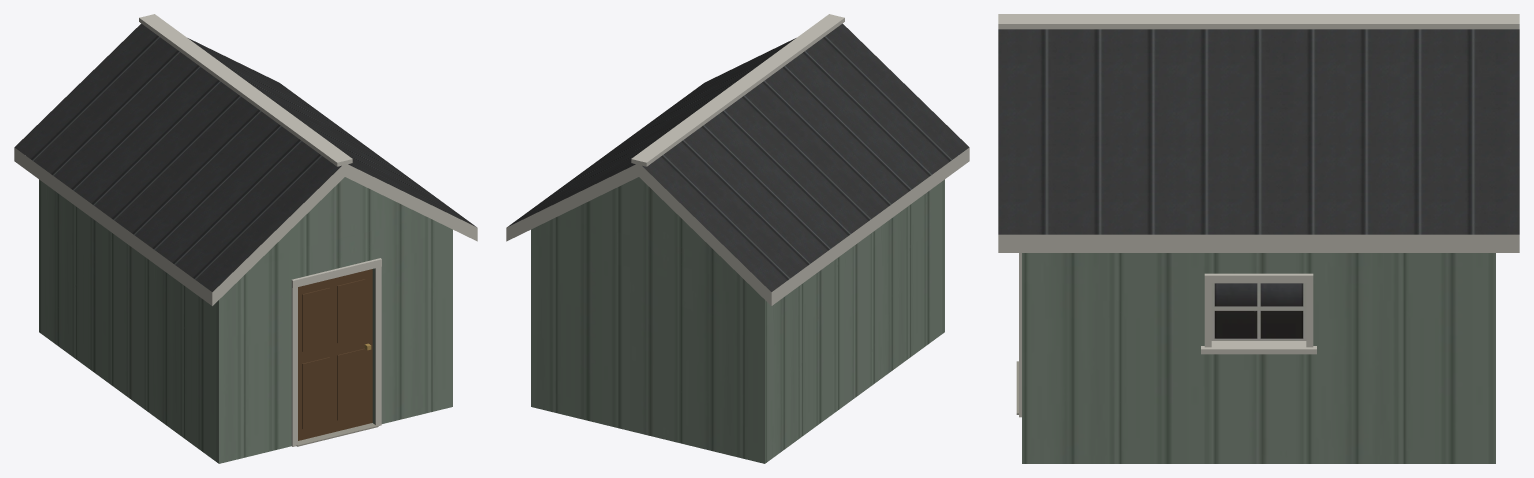
The model's file is town_shed 2.gltf.
3 renders of one model, left to right at view 1: azimuth 30°, elevation 25°; view 2: azimuth 150°, elevation 25°; view 3: azimuth 270°, elevation 25°, orthographic. The views are drawn at different scales.
Parts seen in each view (by area): view 1: TownShed_Walls, TownShed_Roof, TownShed_ClosedDoor, TownShed_Fascia, TownShed_Ridge, TownShed_Trim, TownShed_Sill; view 2: TownShed_Walls, TownShed_Roof, TownShed_Fascia, TownShed_Ridge; view 3: TownShed_Roof, TownShed_Walls, TownShed_Fascia, TownShed_Ridge, TownShed_Window, TownShed_Trim.
Boxes of the visible parts, box(x1,y1,x2,y2) form: TownShed_Walls: box(39, 177, 452, 463); TownShed_Roof: box(14, 23, 475, 291); TownShed_ClosedDoor: box(298, 269, 372, 440); TownShed_Fascia: box(14, 147, 477, 305); TownShed_Ridge: box(139, 14, 352, 166); TownShed_Trim: box(291, 258, 381, 446); TownShed_Sill: box(296, 423, 378, 446); TownShed_Walls: box(531, 177, 944, 463); TownShed_Roof: box(508, 23, 969, 291); TownShed_Fascia: box(506, 147, 969, 305); TownShed_Ridge: box(631, 14, 844, 166); TownShed_Roof: box(998, 29, 1519, 234); TownShed_Walls: box(1022, 253, 1495, 463); TownShed_Fascia: box(998, 234, 1519, 252); TownShed_Ridge: box(998, 14, 1519, 29); TownShed_Window: box(1211, 283, 1306, 340); TownShed_Trim: box(1019, 253, 1316, 417).
Size of what is drawn, in the model's own units: 3.4 by 3.45 by 4.4.
Materials: 1 (1 with a texture image).
